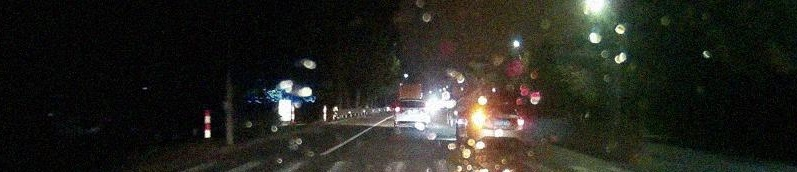L_light: (472, 113, 486, 126), (395, 107, 400, 112)
R_light: (516, 119, 524, 126), (424, 108, 429, 113)
T_light: (490, 105, 500, 107), (409, 101, 415, 102)
night-left: (471, 103, 524, 149)
night-no: (395, 100, 430, 129)
